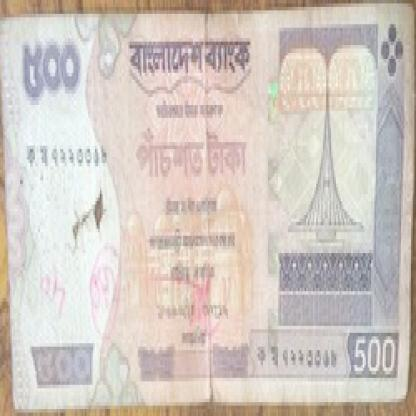500 taka: (108, 104, 253, 194), (11, 35, 94, 97)
currency: (3, 14, 408, 388)
